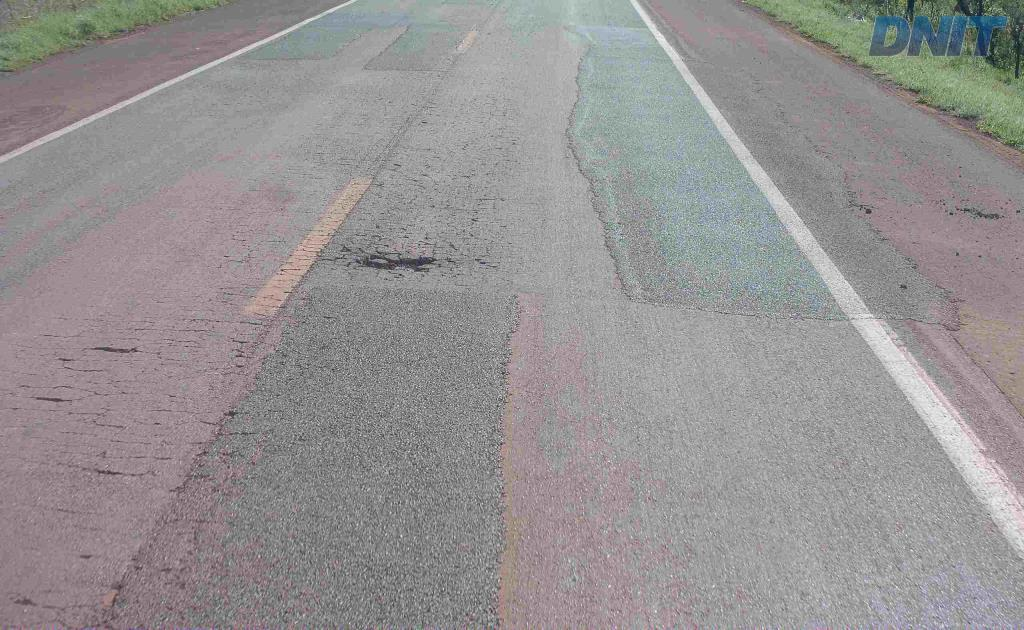pothole: (337, 242, 444, 277)
